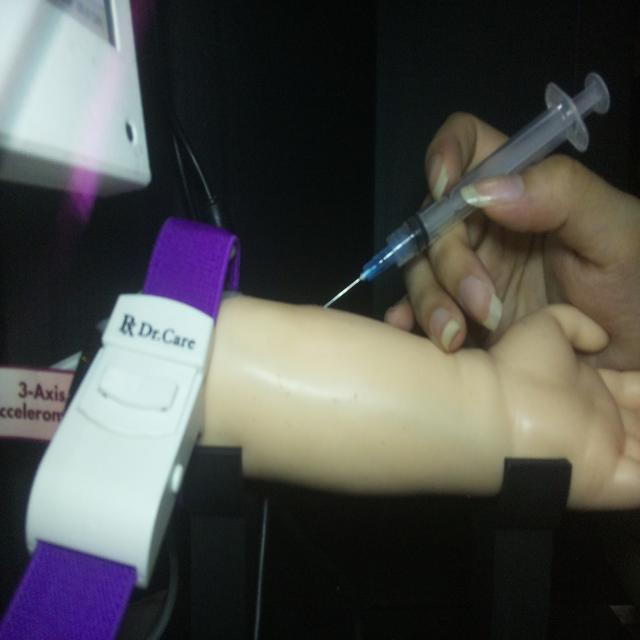28 degrees: (322, 68, 611, 311)
